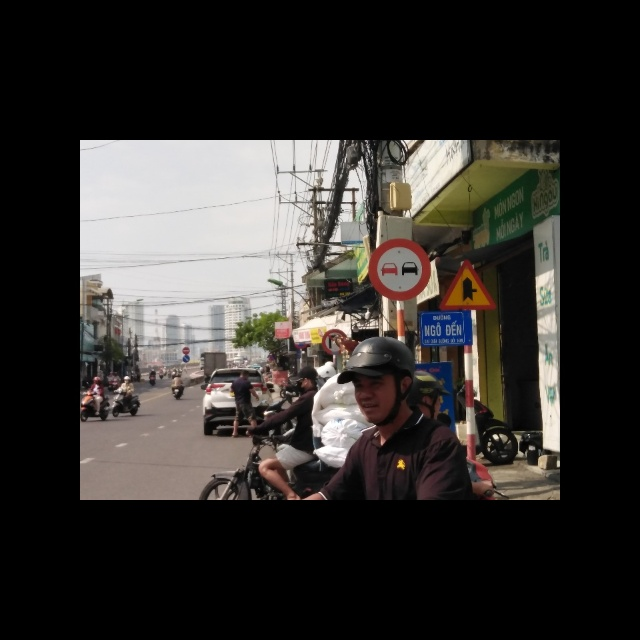Cấm vượt: (368, 236, 430, 300)
Giao nhau với đường không ưu tiên: (439, 259, 497, 312)
